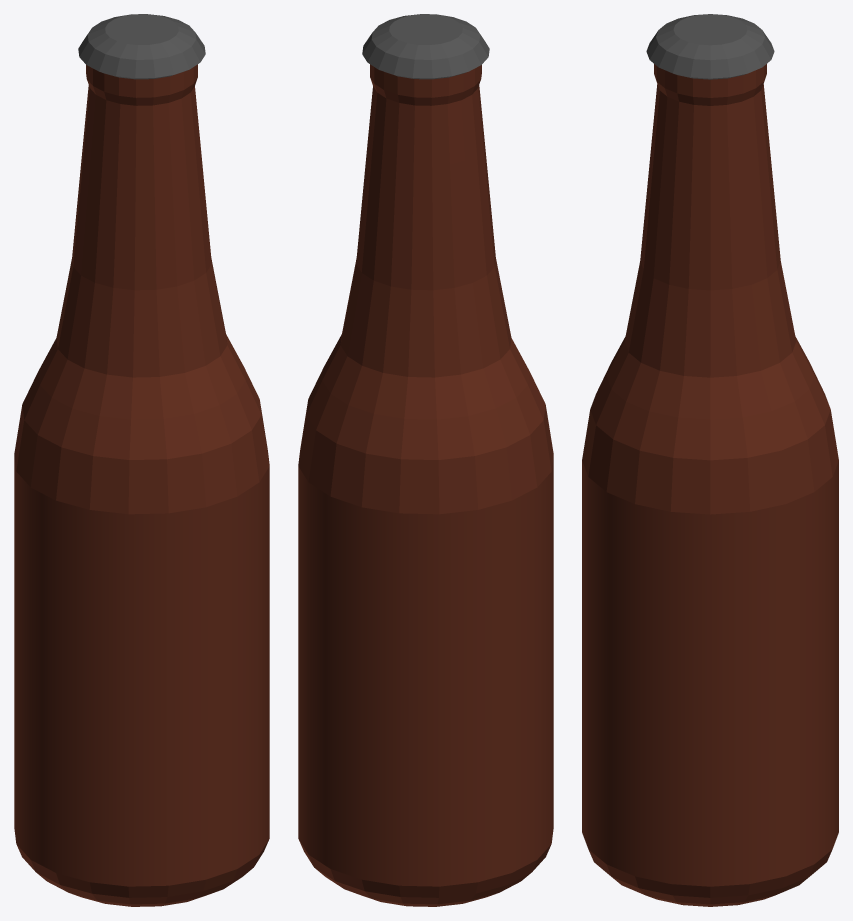
File: Bottle (small item).fbx
3 views of the same model, side by side, from view 1: azimuth 30°, elevation 25°; view 2: azimuth 150°, elevation 25°; view 3: azimuth 270°, elevation 25° (orthographic).
Parts seen in each view (by area): view 1: Cylinder001; view 2: Cylinder001; view 3: Cylinder001.
Part boxes in pixels (x1,y1,x2,y2): Cylinder001: [14, 14, 269, 906]; Cylinder001: [298, 14, 553, 906]; Cylinder001: [582, 14, 838, 906].
Bounding box in the file's own units: 20.11 × 72.46 × 20.11.
